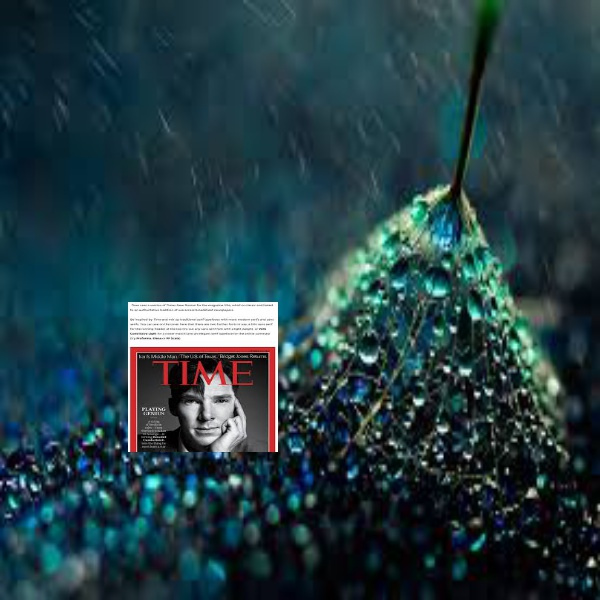time_cover: (126, 342, 280, 449)
